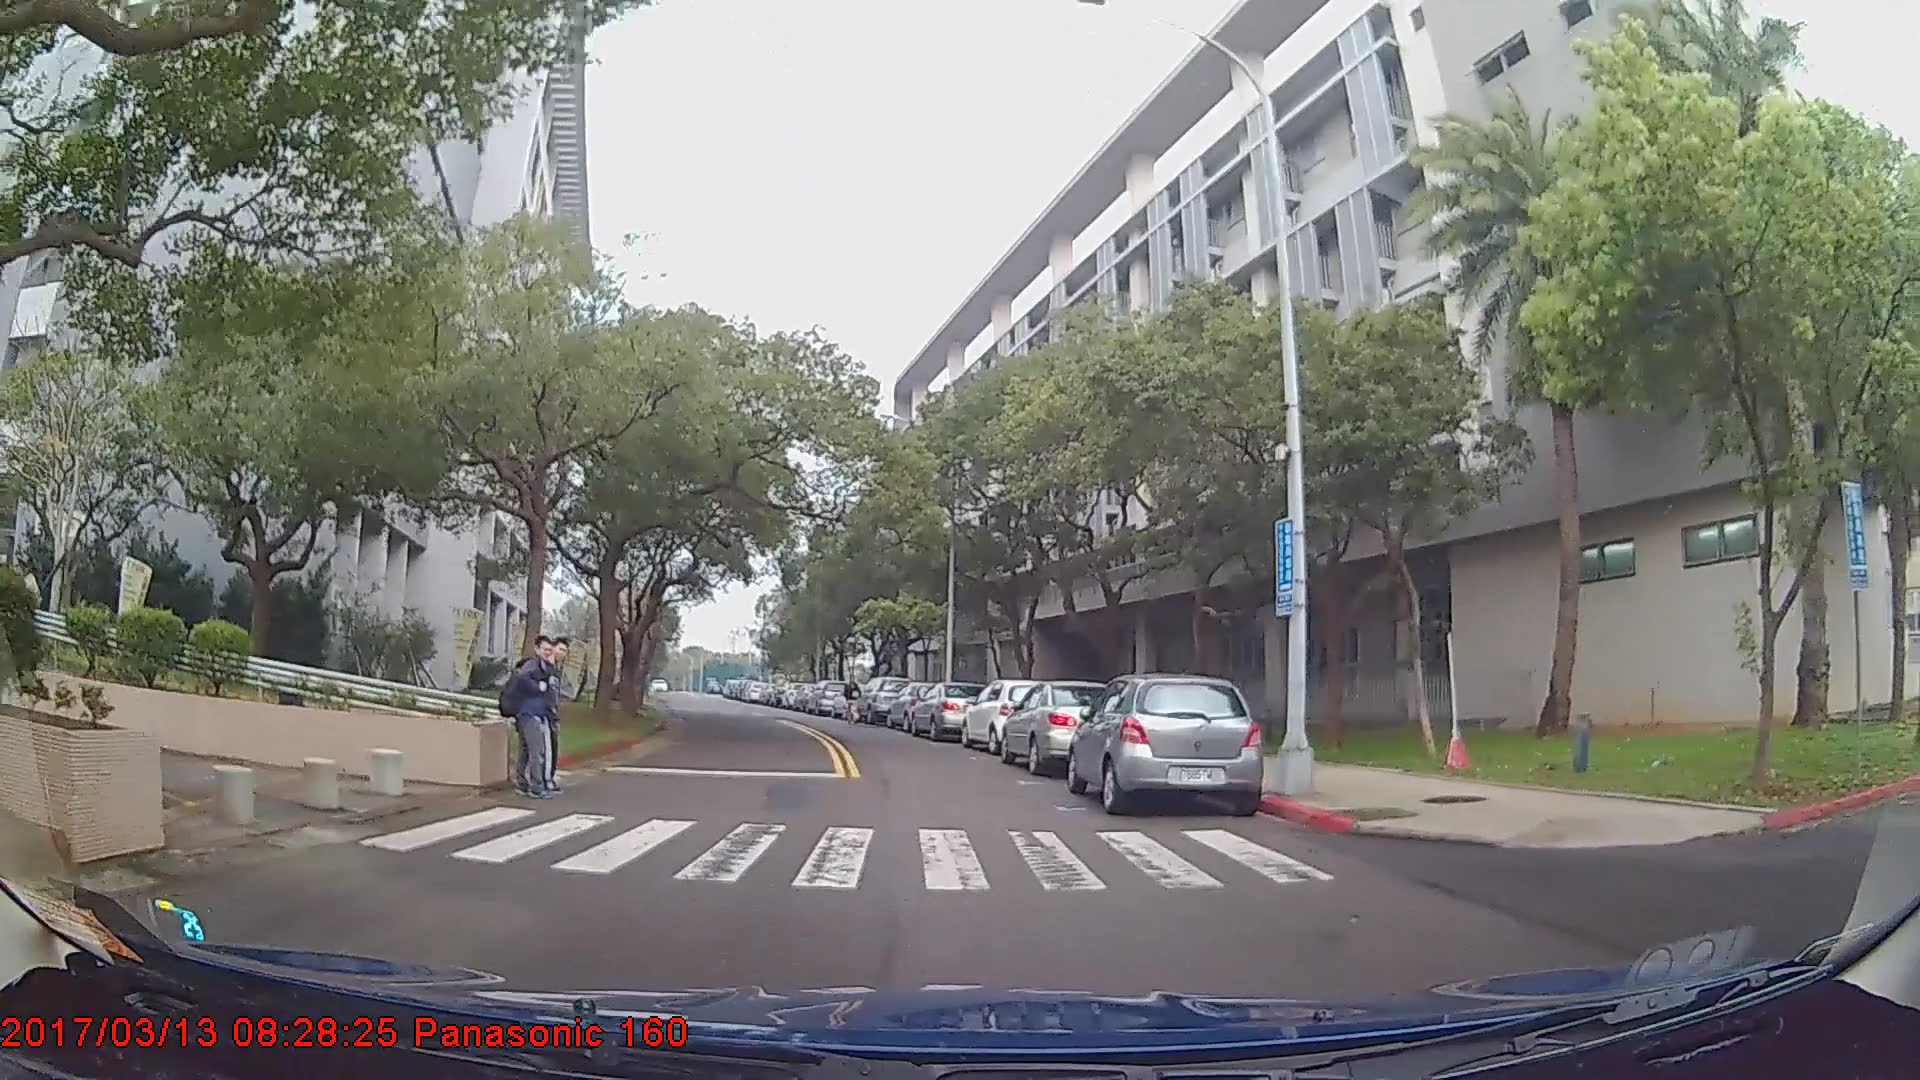pedestrian: (497, 628, 565, 807), (844, 677, 864, 727)
vehicle: (1066, 673, 1264, 817), (998, 680, 1125, 777), (960, 678, 1058, 754), (908, 679, 993, 741), (855, 674, 914, 722), (807, 678, 847, 716)
